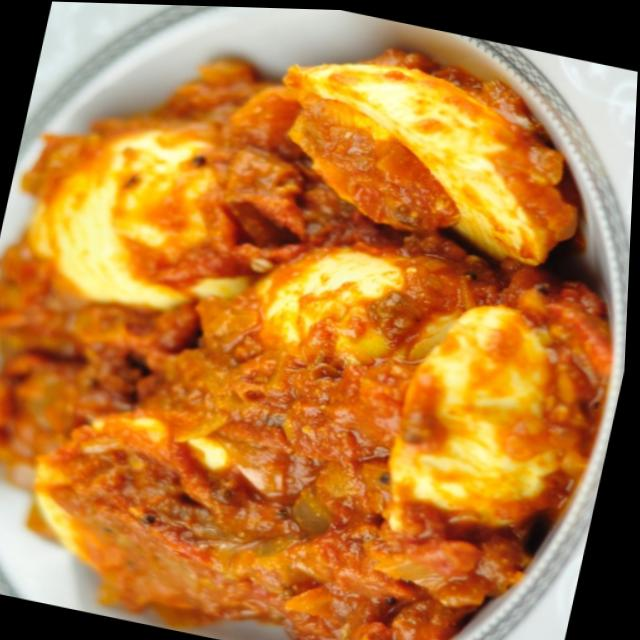EGG: (0, 48, 610, 640)
